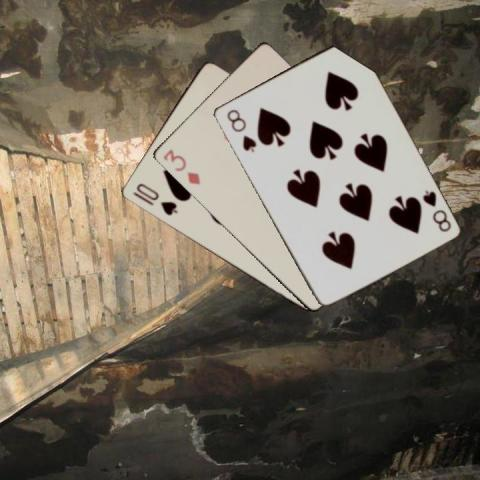10s: (133, 180, 178, 217)
3d: (160, 146, 201, 186)
8s: (224, 106, 258, 153), (419, 188, 452, 234)
